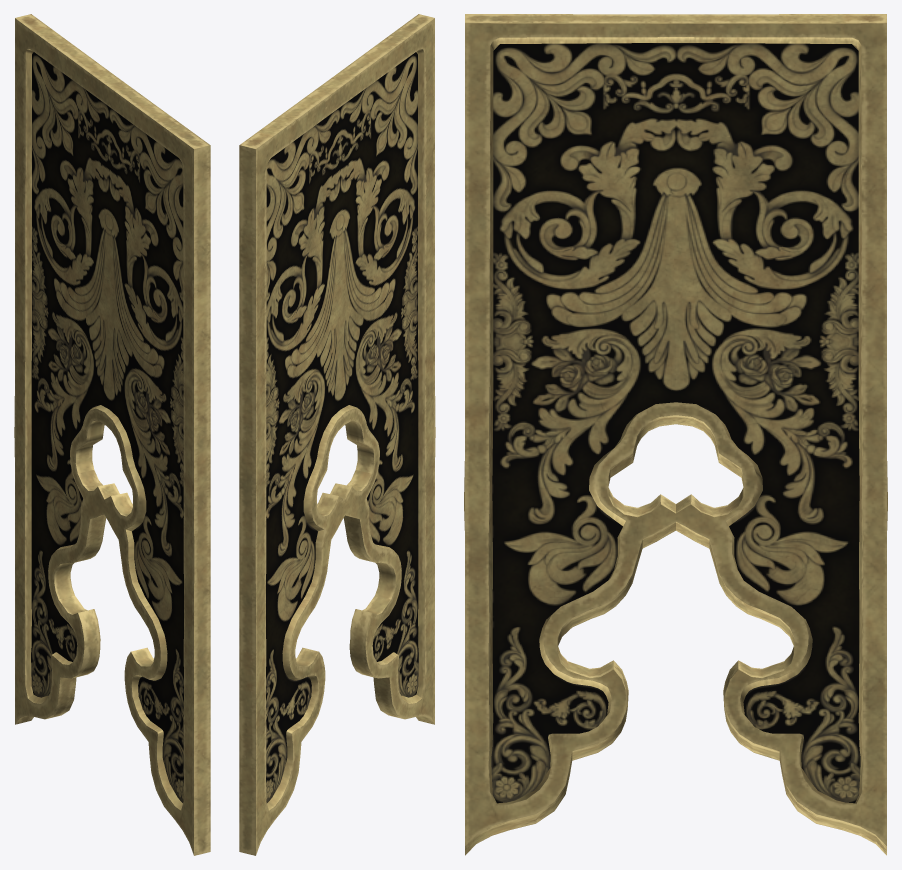
File: SM_MetalPanel_03.fbx
3 views of the same model, side by side, from view 1: azimuth 30°, elevation 25°; view 2: azimuth 150°, elevation 25°; view 3: azimuth 270°, elevation 25° (orthographic). The views are drawn at different scales.
Visible parts, largest first — view 1: SM_MetalPanel_03_LOD0; view 2: SM_MetalPanel_03_LOD0; view 3: SM_MetalPanel_03_LOD0.
Boxes of the visible parts, <box> form: SM_MetalPanel_03_LOD0: <box>14,14,210,855</box>; SM_MetalPanel_03_LOD0: <box>239,14,435,855</box>; SM_MetalPanel_03_LOD0: <box>464,14,887,855</box>.
Size of the model in its own units: 2.66 by 50.31 by 109.
